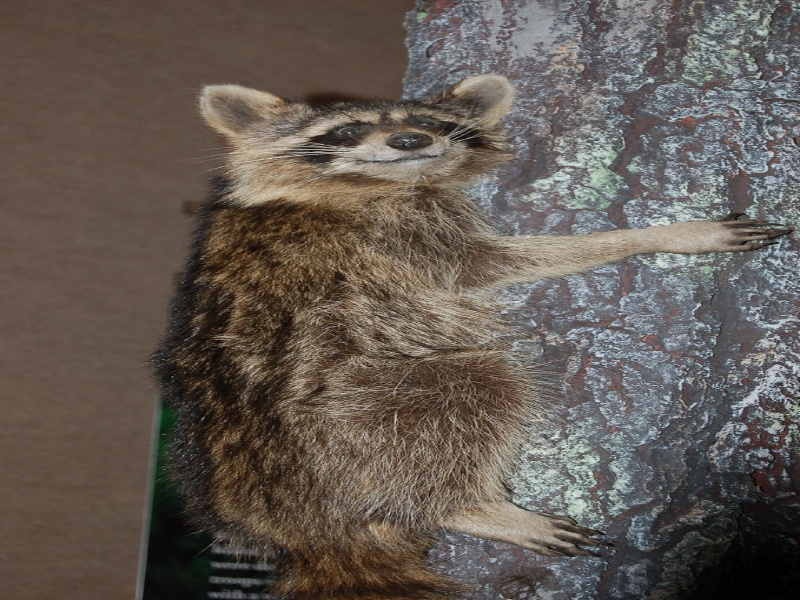raccoon: (153, 70, 790, 587)
